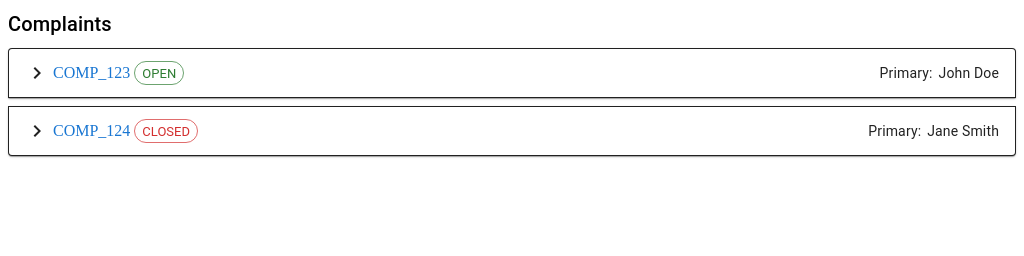
it: CaseFileComplaintsTable › collapses accordion when clicked again
# Expand the first accordion
Click the button "COMP_123 OPEN Primary: John Doe": (159, 73) [25,61,999,85]
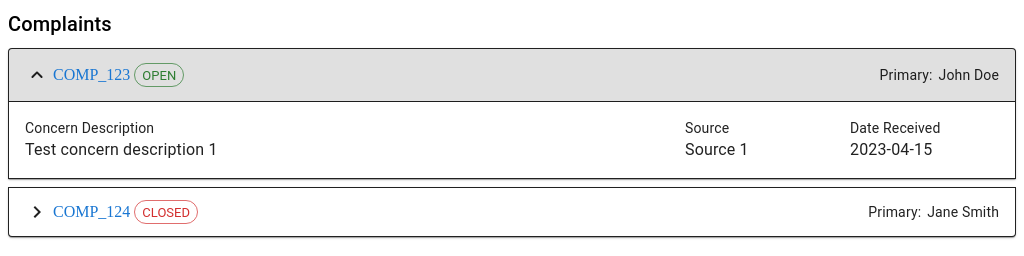
Expected: the text "Concern Description" is shown, [25,120,154,136]
# Click again to collapse
Click the button "COMP_123 OPEN Primary: John Doe": (159, 75) [9,49,1015,102]
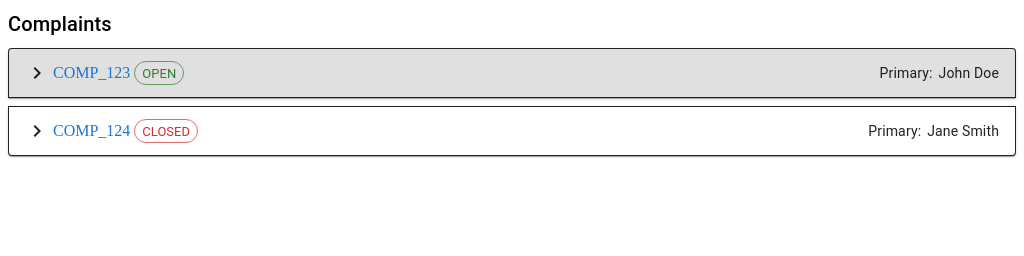
Expected: the text "Concern Description" is gone
